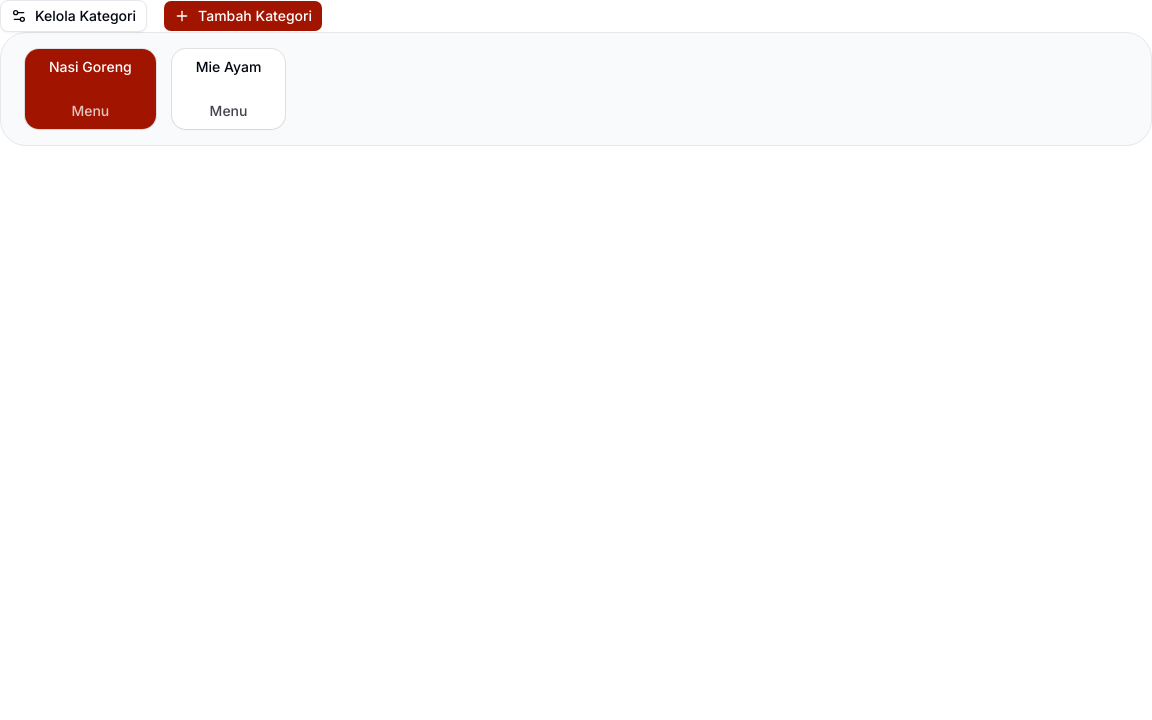
Test: MenuCategory › should create a new category successfully and display it in MenuCategory
Check: the text "Nasi Goreng" is shown, box [49,57,132,77]
Check: the text "Mie Ayam" is shown, box [196,57,261,77]
# Click the "Add Category" button to open the dialog
Step 1. Click the button with test id "add-category-button" → point(243, 16), box [163,0,323,32]
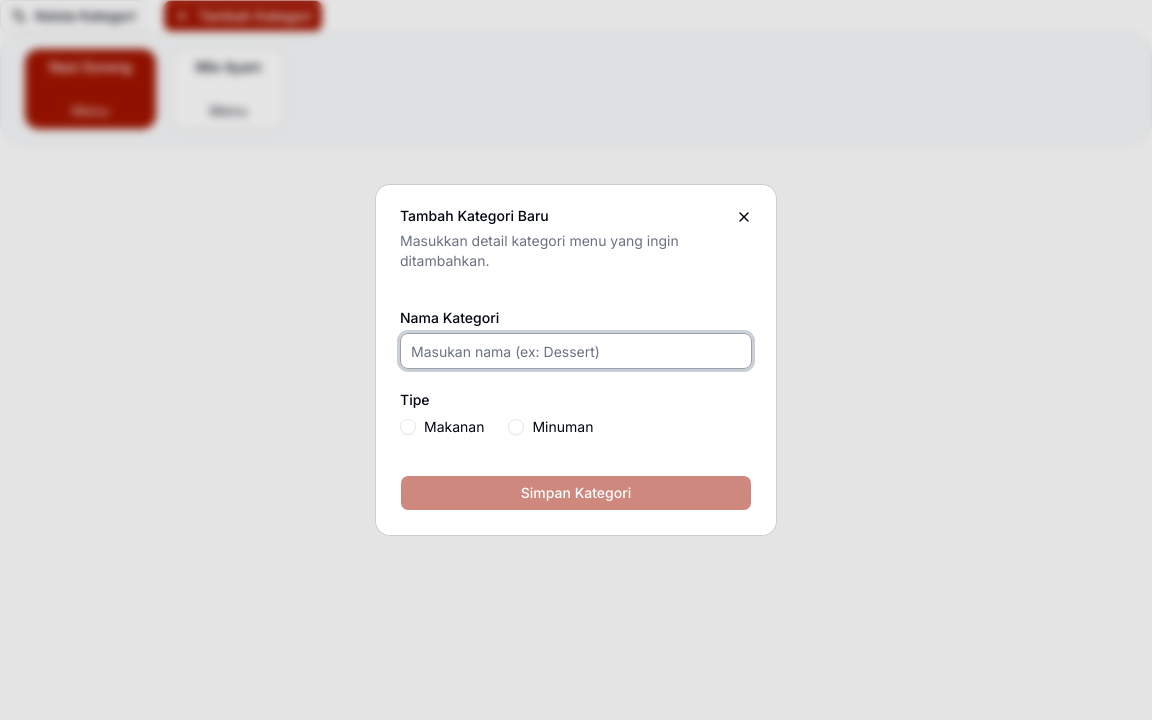
Check: the heading "Tambah Kategori Baru" is shown, box [400,207,549,224]
# Fill in the category name
Step 2. Type "Juice" into the field with placeholder "Masukan nama (ex: Dessert)" → point(576, 351), box [400,333,752,369]
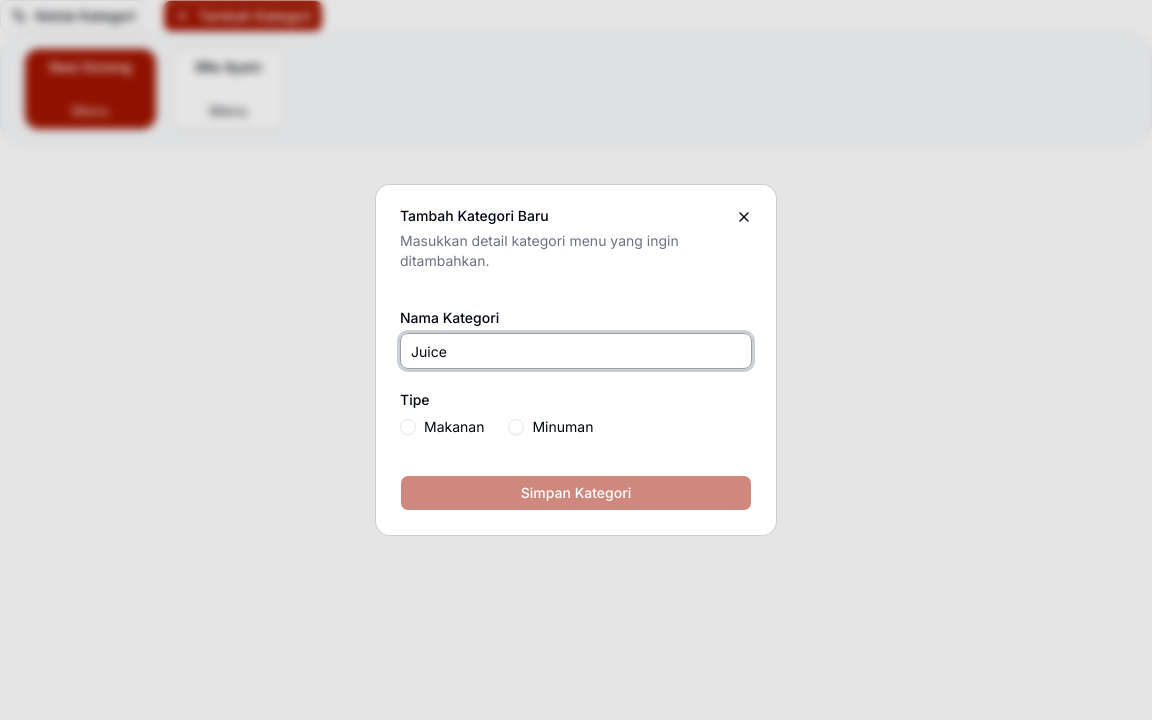
# Select the category type (Minuman)
Step 3. Click the radio button named "Minuman" next to "Minuman" → point(516, 427), box [508,419,524,435]
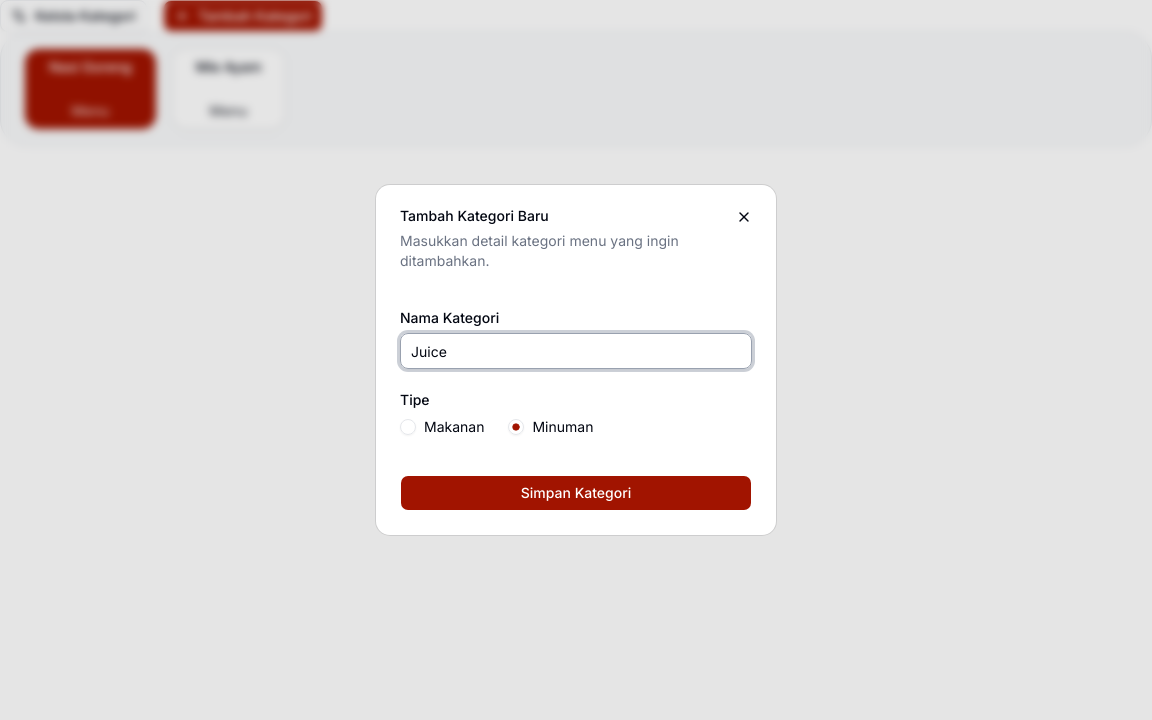
Check: the radio button named "Minuman" next to "Minuman" is checked, box [508,419,524,435]
Check: the button with test id "save-category-button" is enabled
Step 4. Click the button with test id "save-category-button" → point(576, 493), box [400,475,752,511]
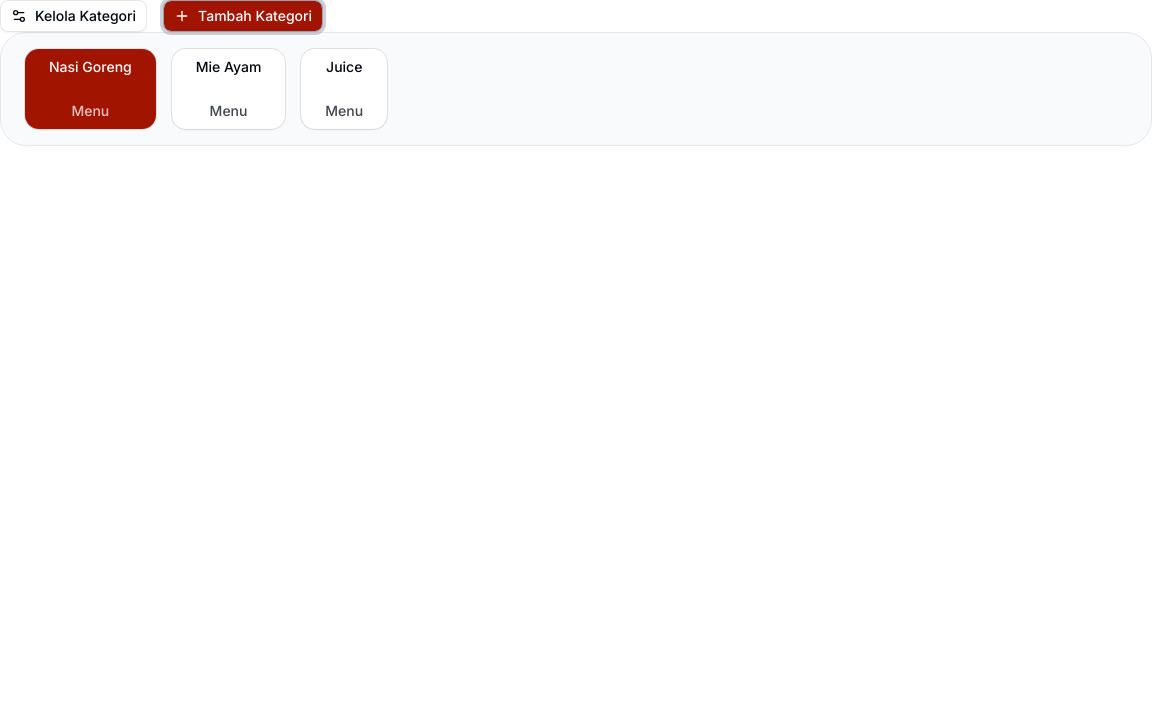
Check: the text "Nasi Goreng" is shown, box [49,57,132,77]
Check: the text "Juice" is shown, box [325,57,363,77]
